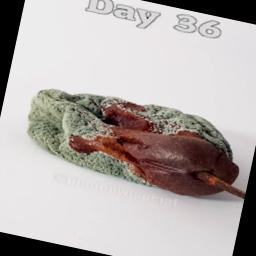Pear Rotten: (0, 65, 256, 207)
